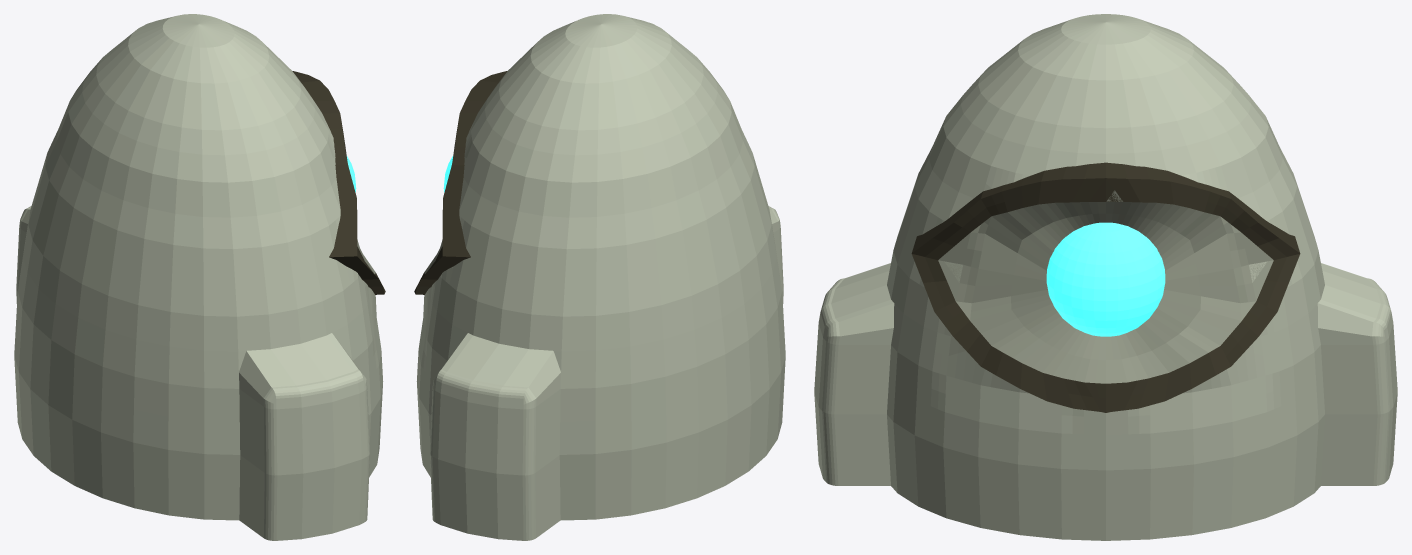
Rendered from eyestone01.fbx.
The picture shows the model from 3 angles, left to right: view 1: azimuth 30°, elevation 25°; view 2: azimuth 150°, elevation 25°; view 3: azimuth 270°, elevation 25°; orthographic projection. The views are drawn at different scales.
Parts seen in each view (by area): view 1: 球; view 2: 球; view 3: 球.
Part boxes in pixels (box(x1,y1,x2,y2)): 球: box(14, 14, 385, 540); 球: box(414, 14, 785, 540); 球: box(814, 14, 1397, 540).
Bounding box in the file's own units: 4173 × 5333 × 6389.
